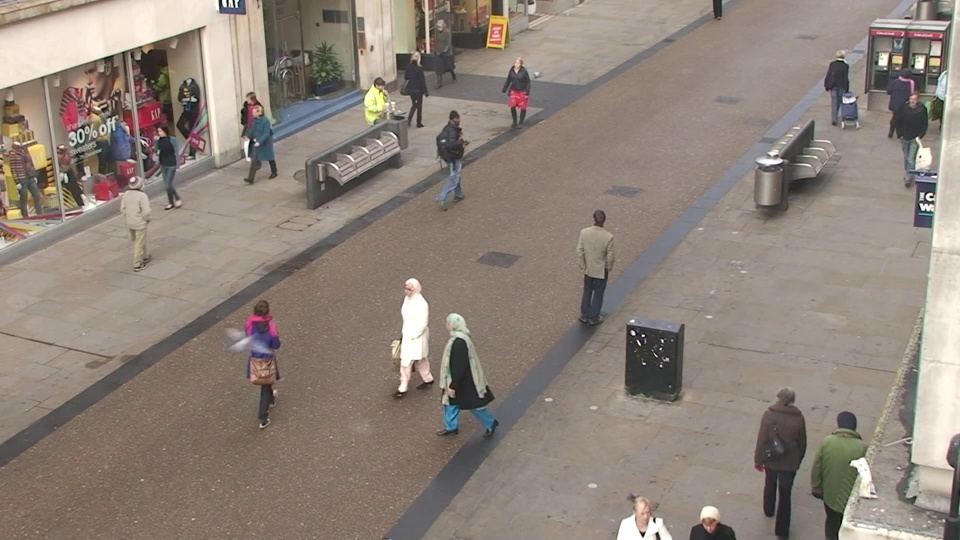pedestrian: (752, 375, 811, 540), (811, 399, 874, 540), (240, 290, 293, 430), (430, 306, 479, 451), (393, 270, 440, 406), (118, 171, 164, 278), (580, 204, 618, 325), (889, 89, 932, 182), (148, 120, 188, 215), (611, 482, 673, 540), (880, 67, 920, 154), (675, 489, 740, 540), (439, 108, 472, 202), (243, 100, 277, 189), (236, 89, 270, 175), (822, 47, 855, 127), (366, 76, 397, 160), (402, 49, 430, 126), (506, 54, 533, 133), (429, 19, 454, 87)
